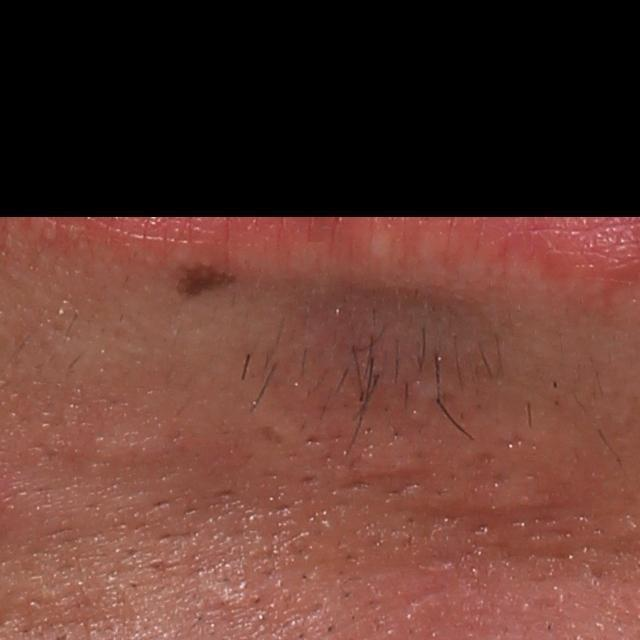atrophic_scar: (274, 289, 498, 442), (370, 505, 460, 557), (371, 585, 450, 631)
hypertrophic_scar: (84, 418, 177, 476)
nevus: (178, 258, 233, 297)
